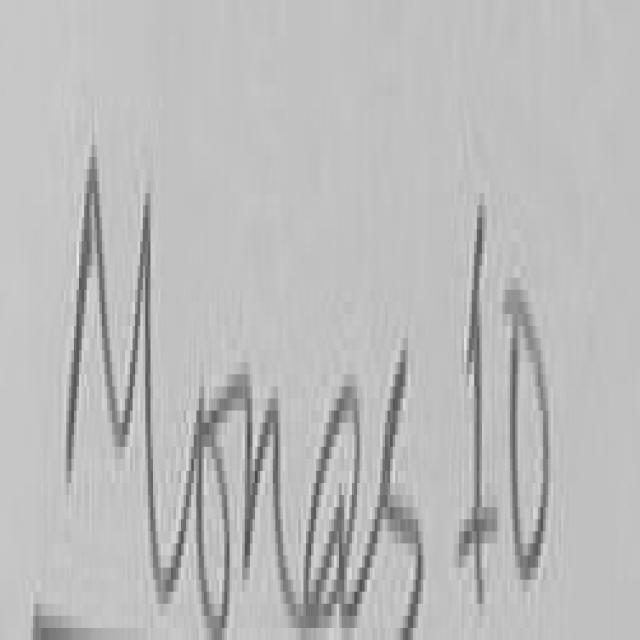0: (510, 290, 551, 580)
1: (462, 205, 500, 568)
M: (66, 145, 196, 598)
a: (306, 386, 368, 631)
n: (227, 374, 298, 616)
o: (199, 435, 229, 640)
s: (352, 350, 423, 634)
